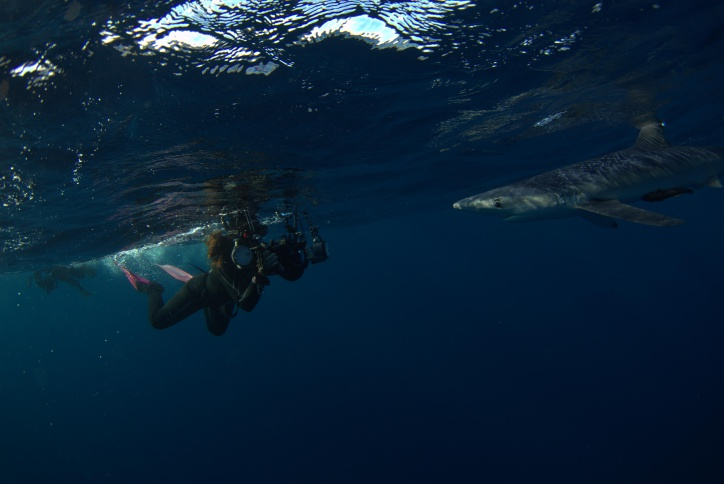Azul: (434, 102, 724, 244)
